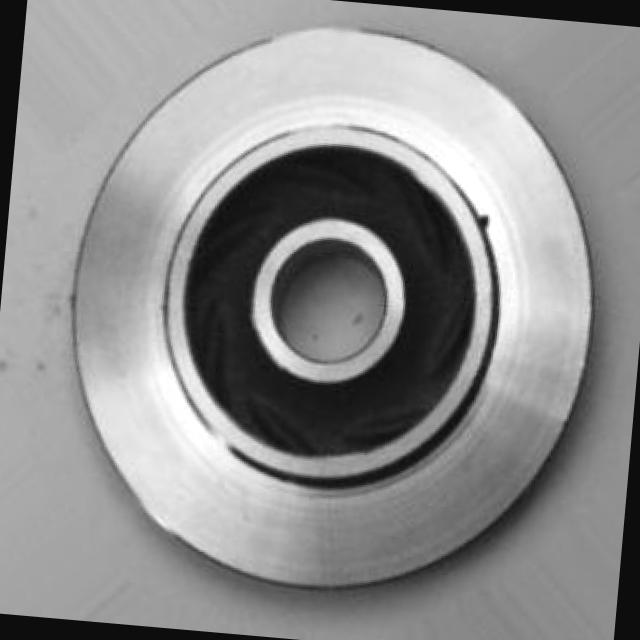Defect: (476, 209, 494, 245)
